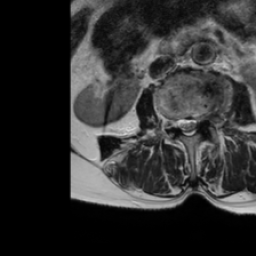CCS_normal: (185, 109, 191, 143)
LFS_normal: (198, 104, 206, 131)
LLS_normal: (191, 109, 198, 138)
RFS_normal: (169, 108, 177, 136)
RLS_normal: (177, 111, 185, 138)
